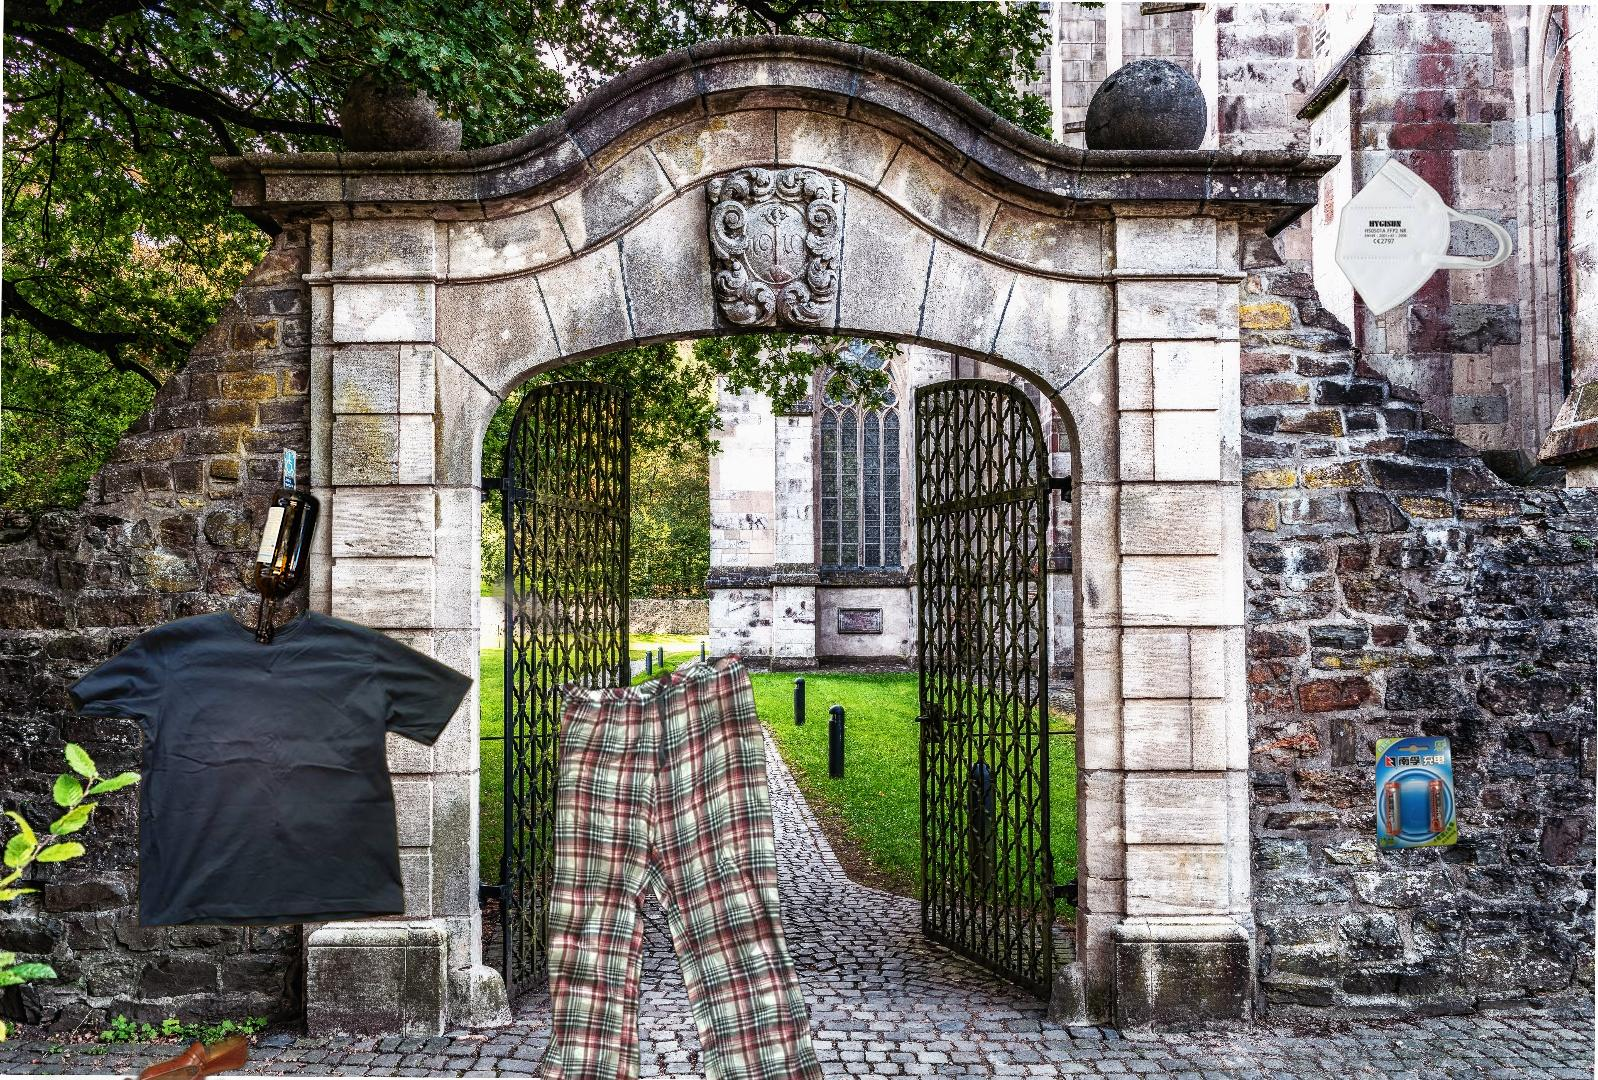battery: (1371, 733, 1461, 855)
clothes: (60, 605, 478, 933), (527, 653, 839, 1080)
glass: (249, 482, 621, 755)
metal-cans: (1527, 744, 1598, 1080)
shoes: (33, 1021, 292, 1080), (550, 1072, 691, 1080)
trash: (1333, 155, 1516, 319)
